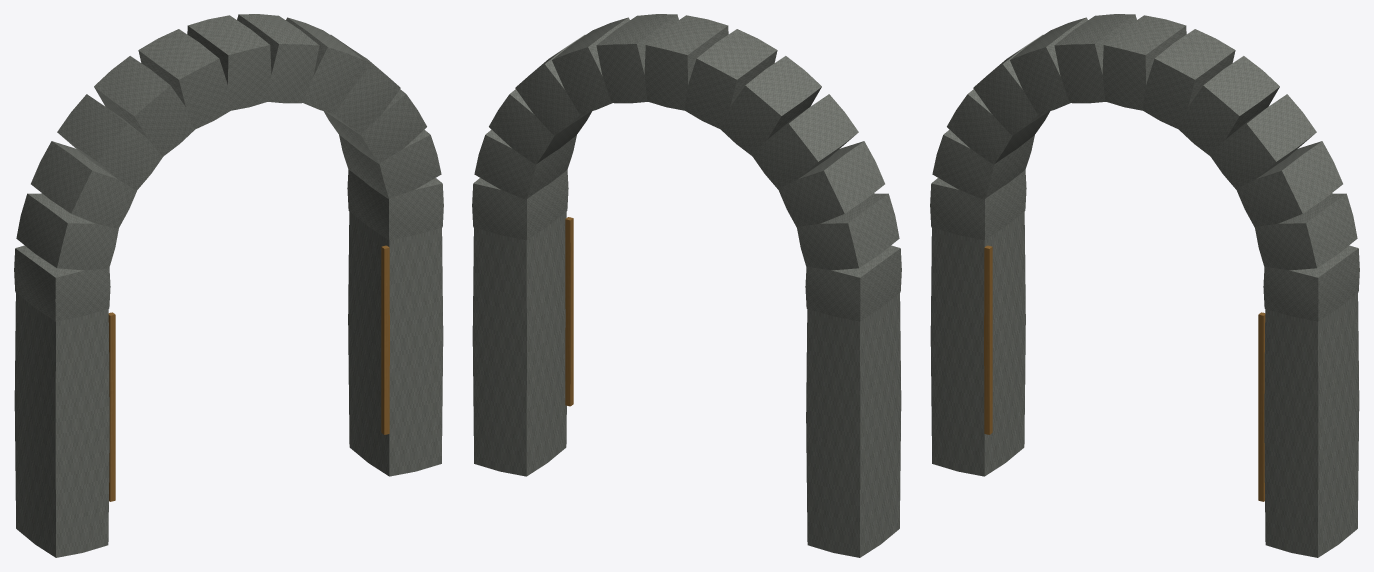
3 views of the same model, side by side, from view 1: azimuth 30°, elevation 25°; view 2: azimuth 150°, elevation 25°; view 3: azimuth 330°, elevation 25° (orthographic).
Visible parts, largest first — view 1: stone.13, stone.14, stone.8, stone.10, stone.11, stone.9, stone.7, stone.12, stone.6, stone.0, stone.5, stone.1 (+5 smaller); view 2: stone.13, stone.14, stone.8, stone.10, stone.11, stone.9, stone.7, stone.12, stone.6, stone.0, stone.5, stone.1 (+4 smaller); view 3: stone.14, stone.13, stone.4, stone.2, stone.1, stone.3, stone.5, stone.0, stone.6, stone.12, stone.7, stone.11 (+5 smaller).
Boxes of the visible parts, x1,y1,x2,y2 form: stone.13: [14, 293, 109, 557]; stone.14: [348, 211, 443, 476]; stone.8: [94, 56, 194, 156]; stone.10: [31, 141, 137, 228]; stone.11: [16, 193, 118, 270]; stone.9: [57, 94, 163, 189]; stone.7: [138, 29, 230, 129]; stone.12: [14, 245, 110, 321]; stone.6: [187, 15, 271, 110]; stone.0: [347, 169, 443, 240]; stone.5: [237, 14, 319, 103]; stone.1: [339, 129, 441, 198]; stone.13: [806, 293, 901, 557]; stone.14: [472, 211, 566, 476]; stone.8: [720, 56, 821, 156]; stone.10: [778, 141, 884, 227]; stone.11: [797, 193, 899, 270]; stone.9: [752, 94, 858, 189]; stone.7: [684, 29, 777, 129]; stone.12: [805, 245, 901, 321]; stone.6: [644, 15, 728, 110]; stone.0: [472, 170, 568, 240]; stone.5: [596, 14, 678, 103]; stone.1: [474, 129, 576, 199]; stone.14: [1264, 293, 1359, 557]; stone.13: [930, 211, 1025, 476]; stone.4: [1178, 56, 1279, 156]; stone.2: [1236, 141, 1342, 227]; stone.1: [1255, 193, 1357, 270]; stone.3: [1210, 94, 1316, 189]; stone.5: [1142, 29, 1235, 129]; stone.0: [1263, 245, 1359, 321]; stone.6: [1102, 15, 1186, 110]; stone.12: [930, 170, 1026, 240]; stone.7: [1054, 14, 1136, 103]; stone.11: [932, 129, 1034, 199].
Size of the model in its own units: 2.35 by 2.67 by 0.45.
2 materials, 2 textured.
